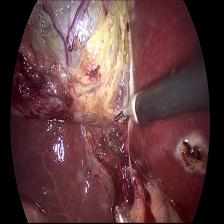Hook: (110, 89, 144, 143)
